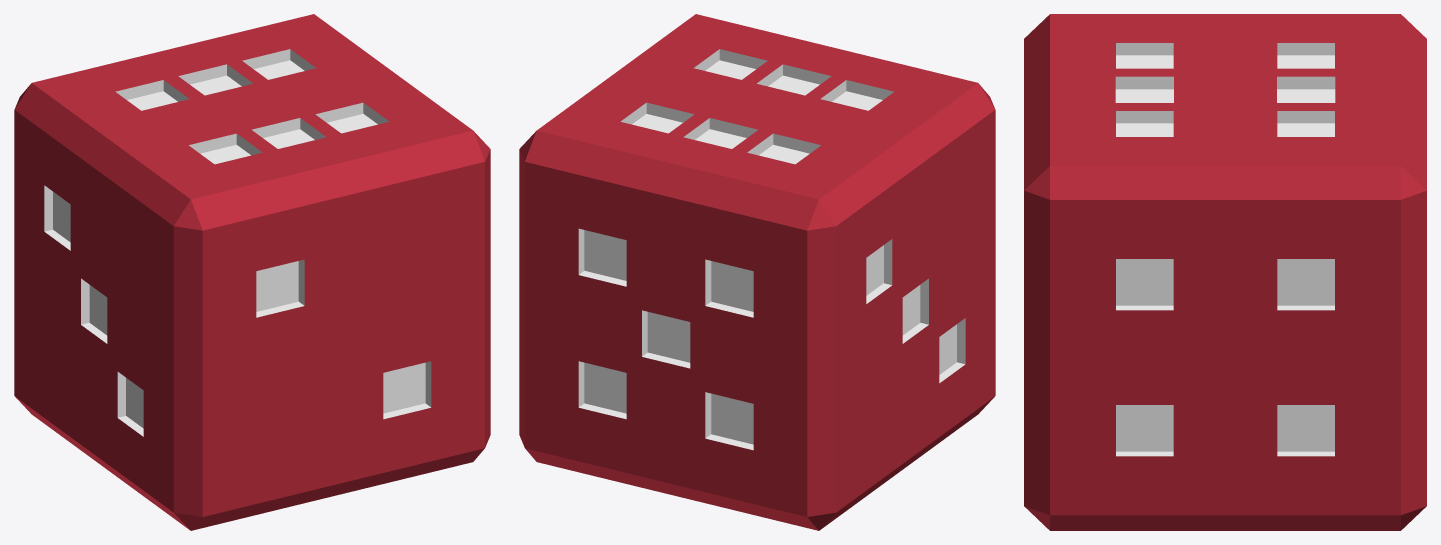
File: FBX_Environment_Dice.fbx
3 views of the same model, side by side, from view 1: azimuth 30°, elevation 25°; view 2: azimuth 150°, elevation 25°; view 3: azimuth 270°, elevation 25° (orthographic). The views are drawn at different scales.
Visible parts, largest first — view 1: Cube; view 2: Cube; view 3: Cube.
Boxes of the visible parts, x1,y1,x2,y2 form: Cube: [14, 14, 490, 530]; Cube: [519, 14, 995, 530]; Cube: [1024, 14, 1426, 530].
Bounding box in the file's own units: 0.018 × 0.018 × 0.018.
